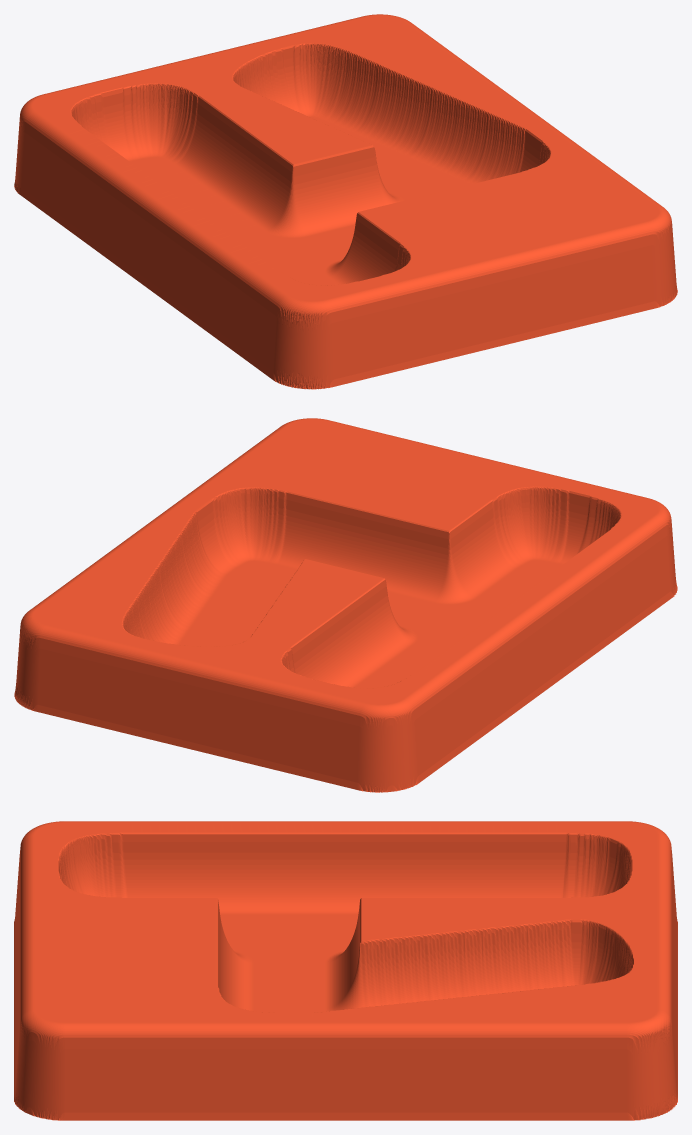
The model's file is mold.glb.
3 renders of one model, top to bottom at view 1: azimuth 30°, elevation 25°; view 2: azimuth 150°, elevation 25°; view 3: azimuth 270°, elevation 25°, orthographic. The views are drawn at different scales.
Visible parts, largest first — view 1: geometry_0; view 2: geometry_0; view 3: geometry_0.
Part boxes in pixels (box(x1,y1,x2,y2)): geometry_0: box(14, 14, 677, 389); geometry_0: box(14, 418, 677, 792); geometry_0: box(14, 821, 677, 1120).
Bounding box in the file's own units: 0.0912 × 0.0175 × 0.1178.
